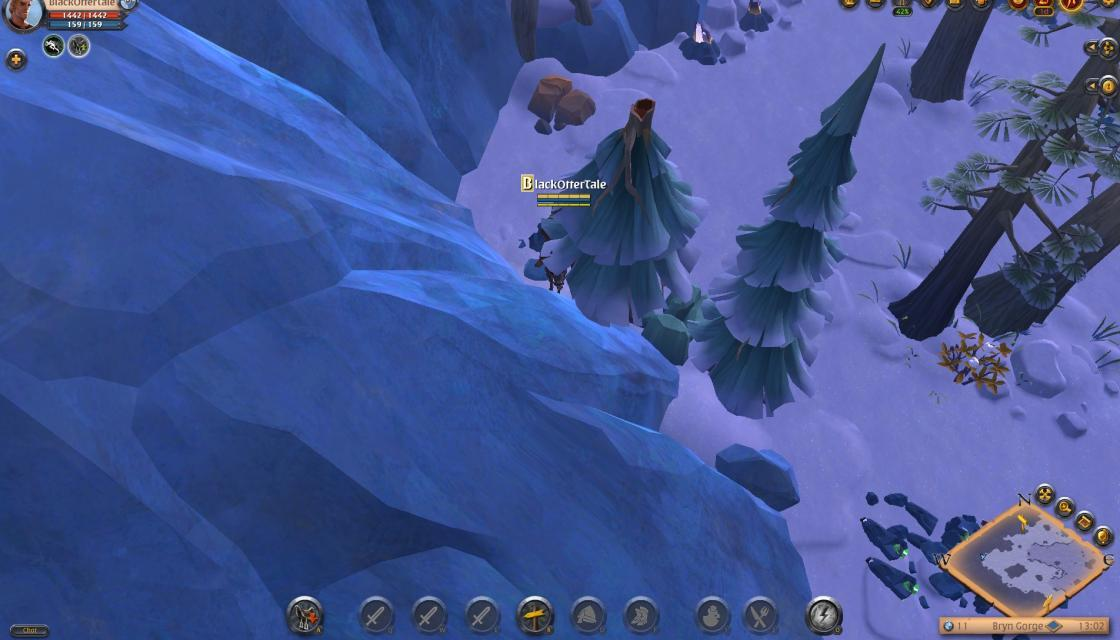copperore: (678, 21, 722, 69), (732, 0, 775, 32)
limestone: (526, 70, 600, 137)
sandstone: (646, 284, 728, 360)
